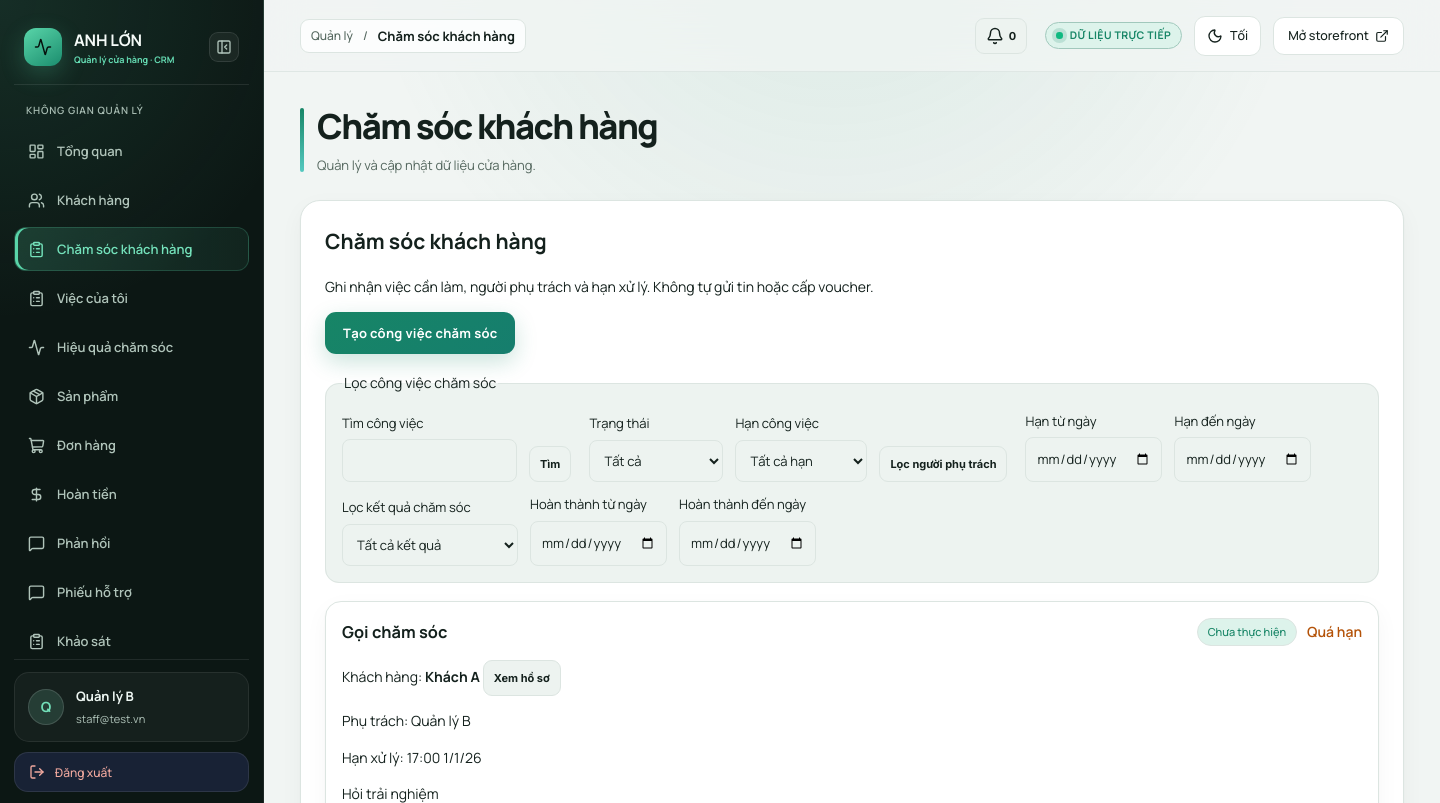
Test: creates a task using selected customer, assignee and Vietnam deadline; blocks repeated submits
Click the button "Tạo công việc chăm sóc".
click(420, 333)  # box [325,312,516,354]
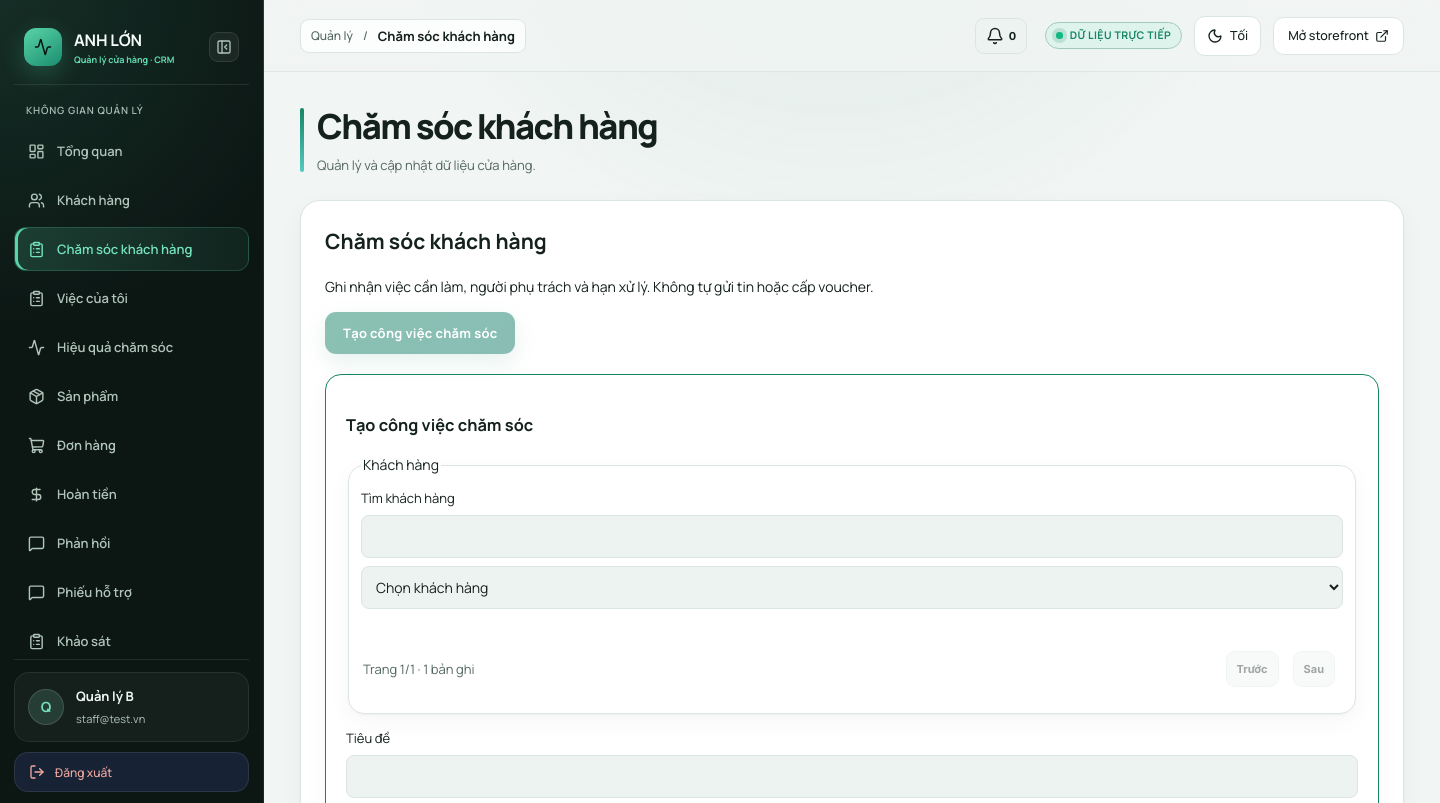
Select "Khách A · customer@test.vn" in the dropdown named "Khách hàng" at {"x": 852, "y": 588}, box [361,566,1343,609]
(page scrolled)
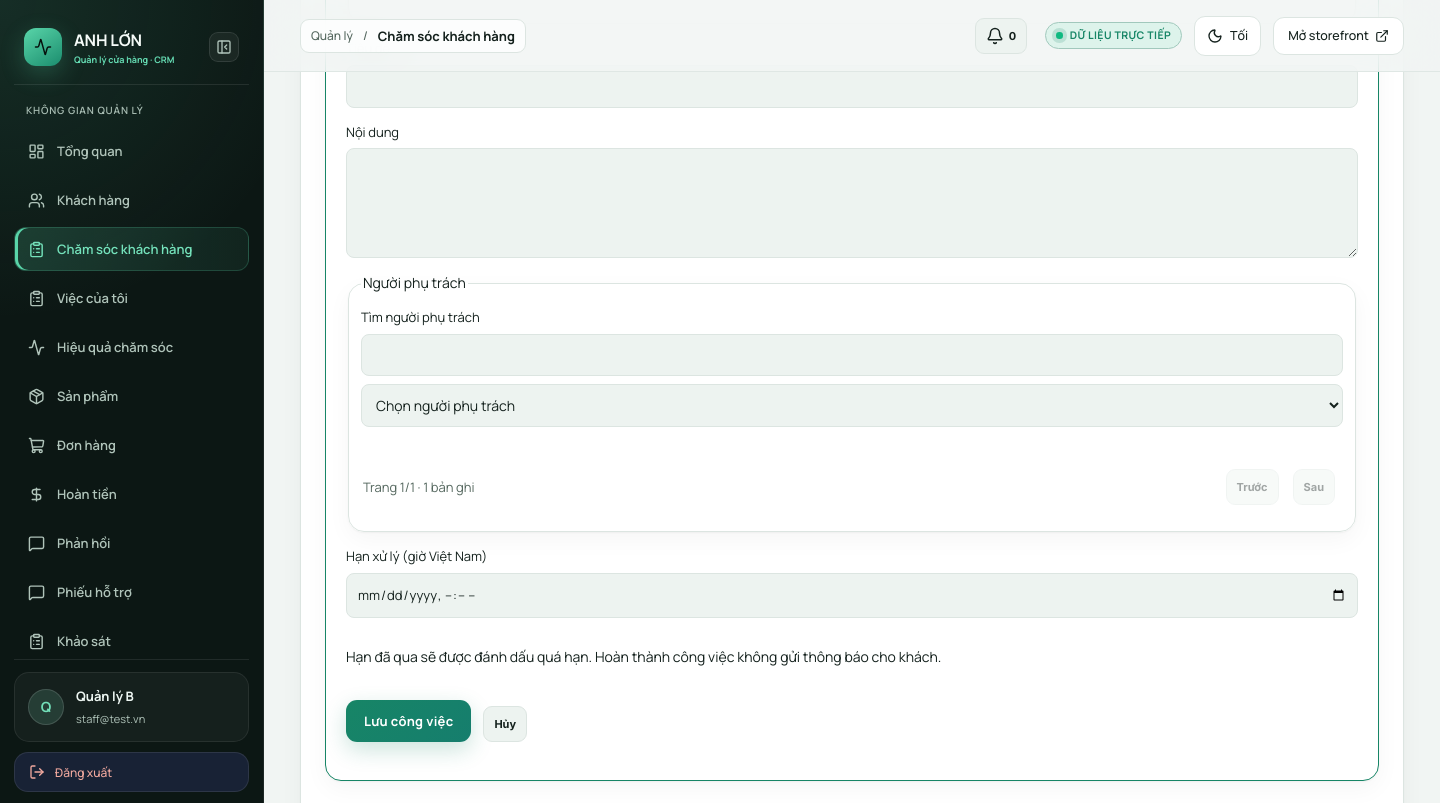
Select "Quản lý B · staff@test.vn" in the dropdown named "Người phụ trách" at {"x": 852, "y": 406}, box [361,384,1343,427]
Type "Gọi lại khách" into the field named "Tiêu đề công việc".
click(852, 86); type("Gọi lại khách")  # box [346,65,1358,108]
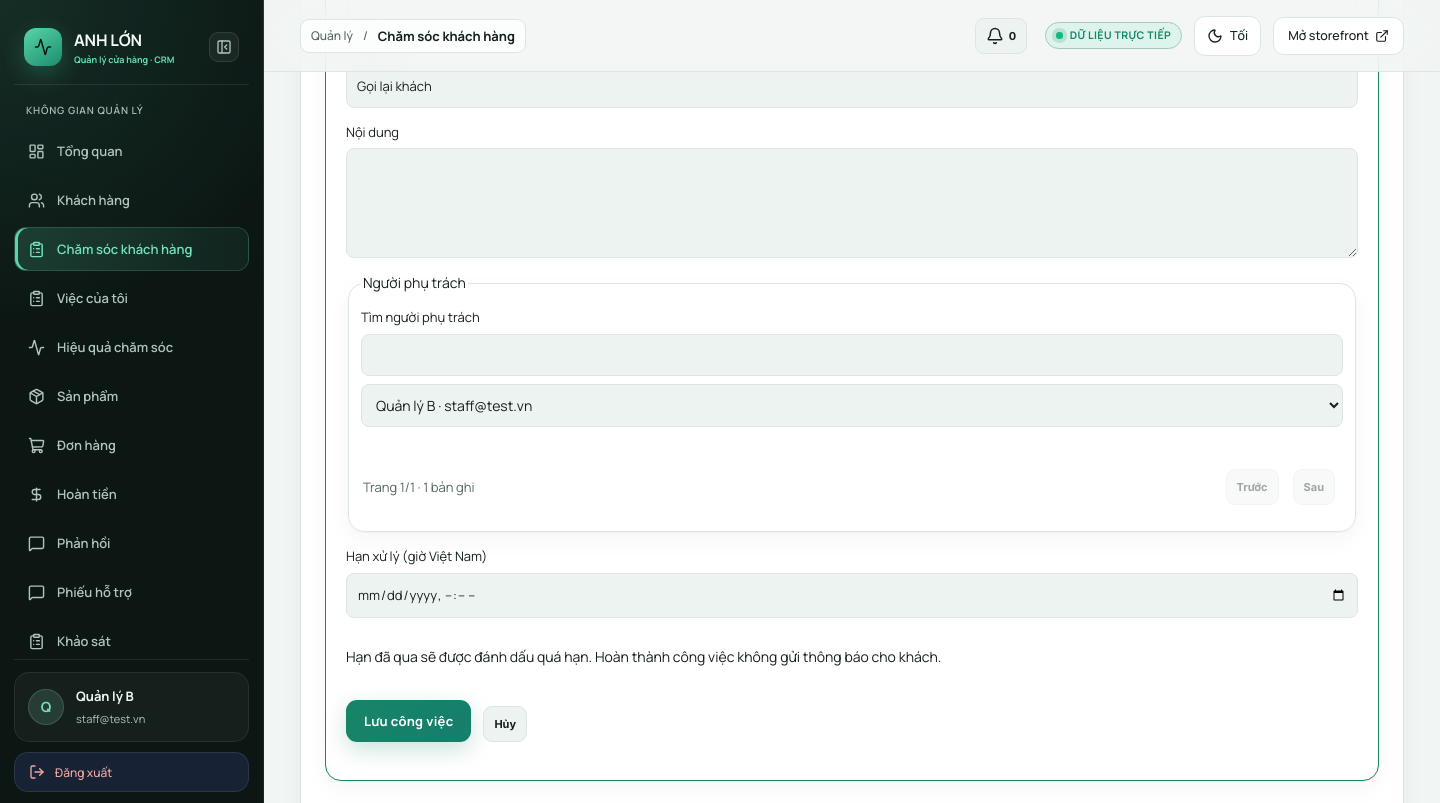
Type "2026-10-10T09:00" into the field labelled "Hạn xử lý".
click(852, 596); type("2026-10-10T09:00")  # box [346,573,1358,618]
(page scrolled)
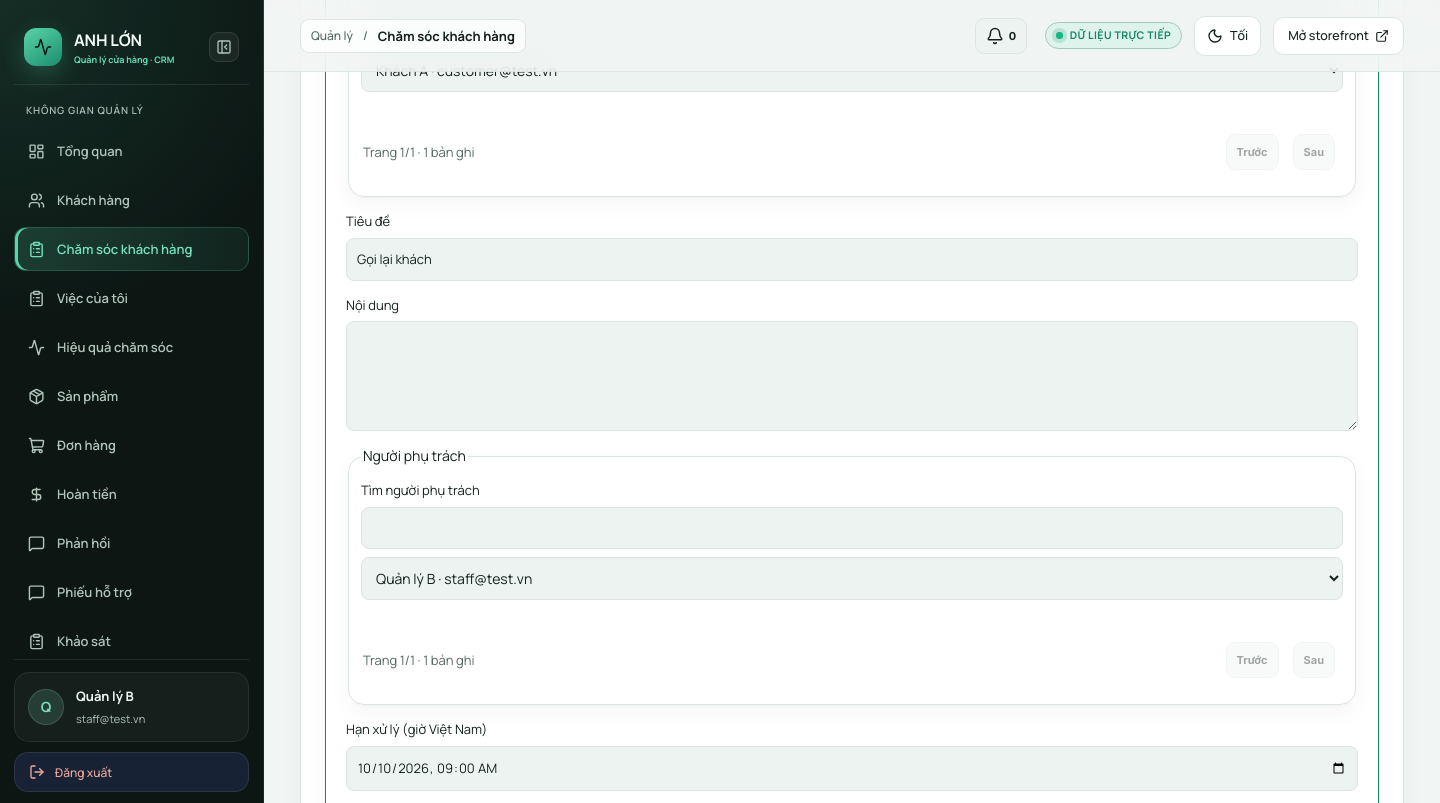
Submit the form "Tạo công việc chăm sóc"
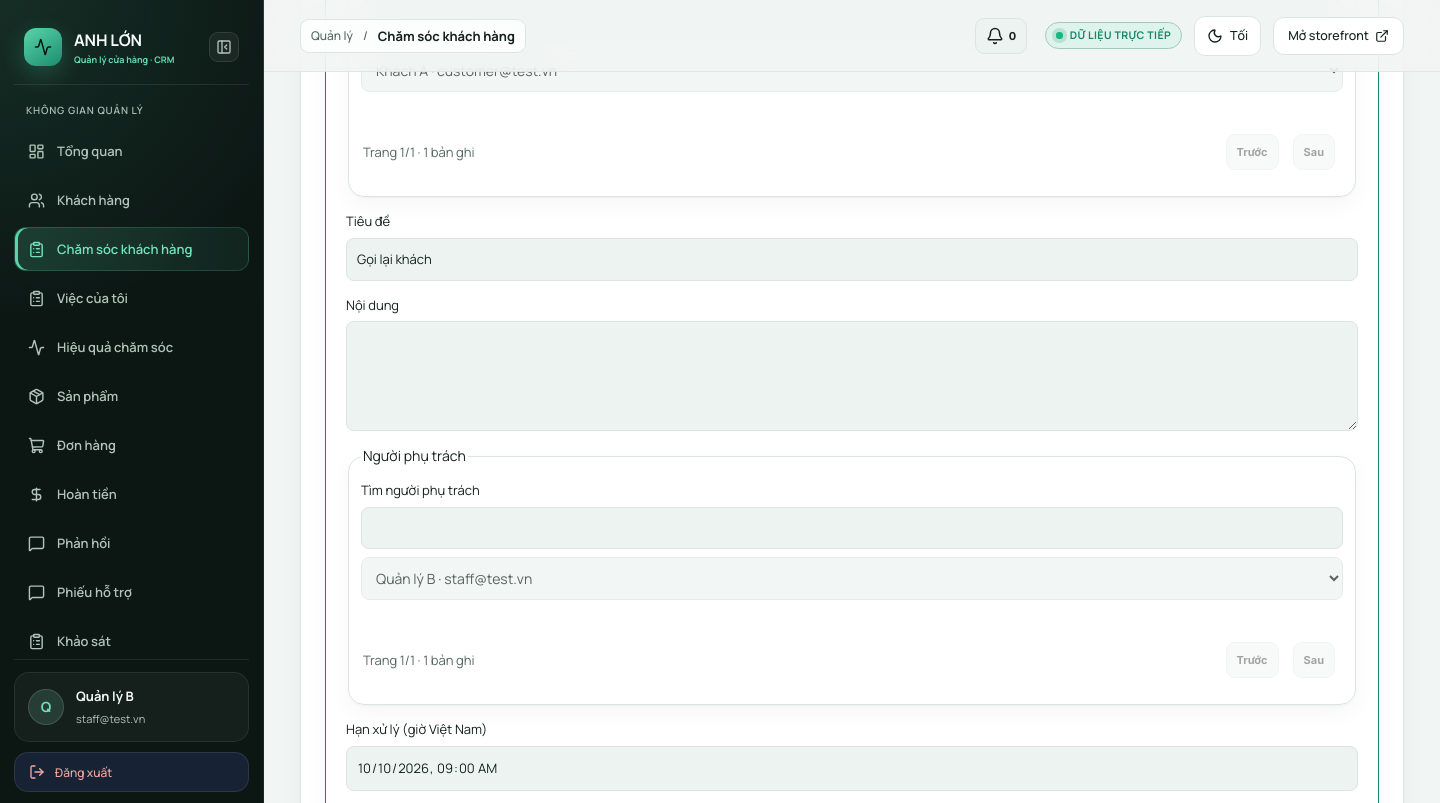
Submit the form "Tạo công việc chăm sóc"
(page scrolled)
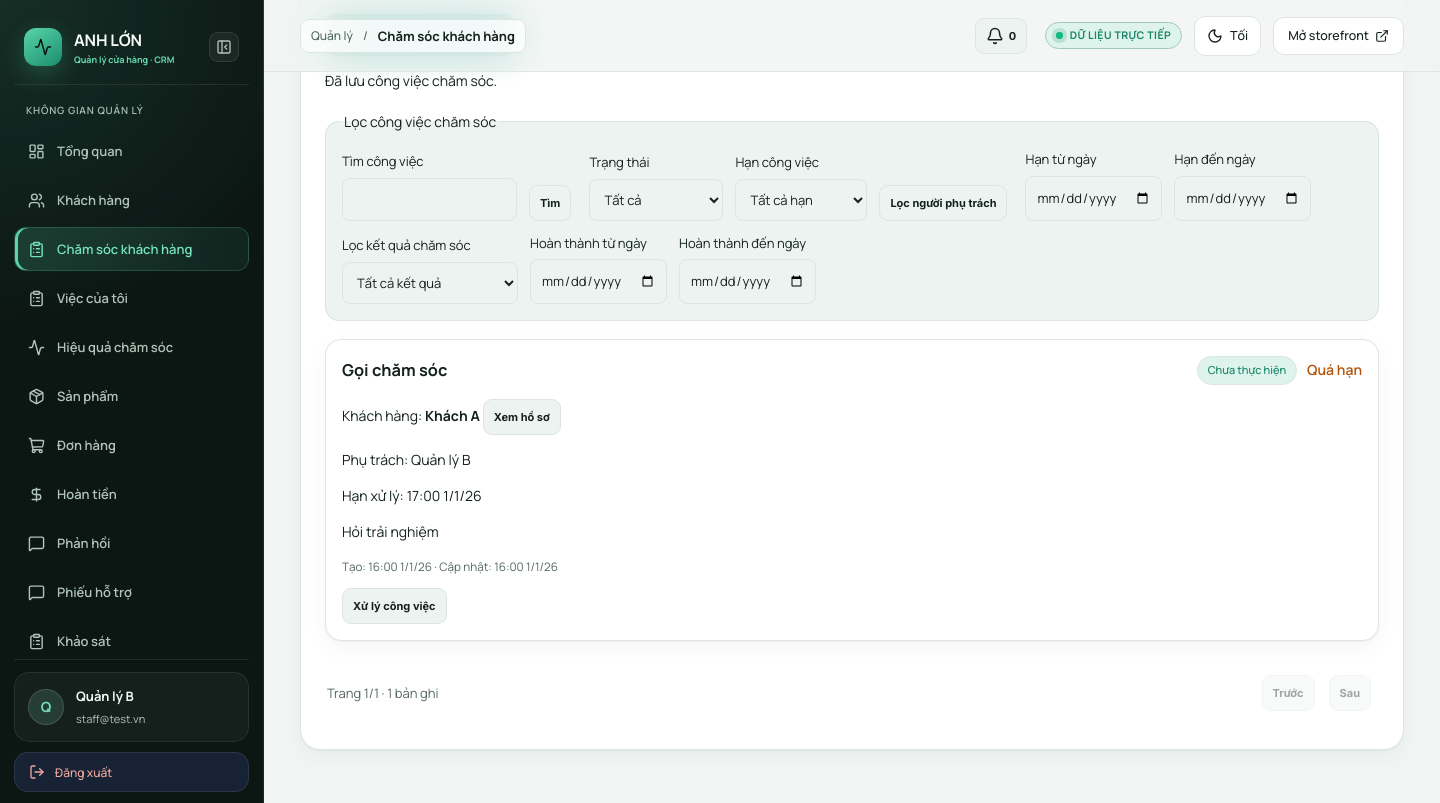
Expected: the text "Đã lưu công việc chăm sóc." is shown, [325,71,497,90]
